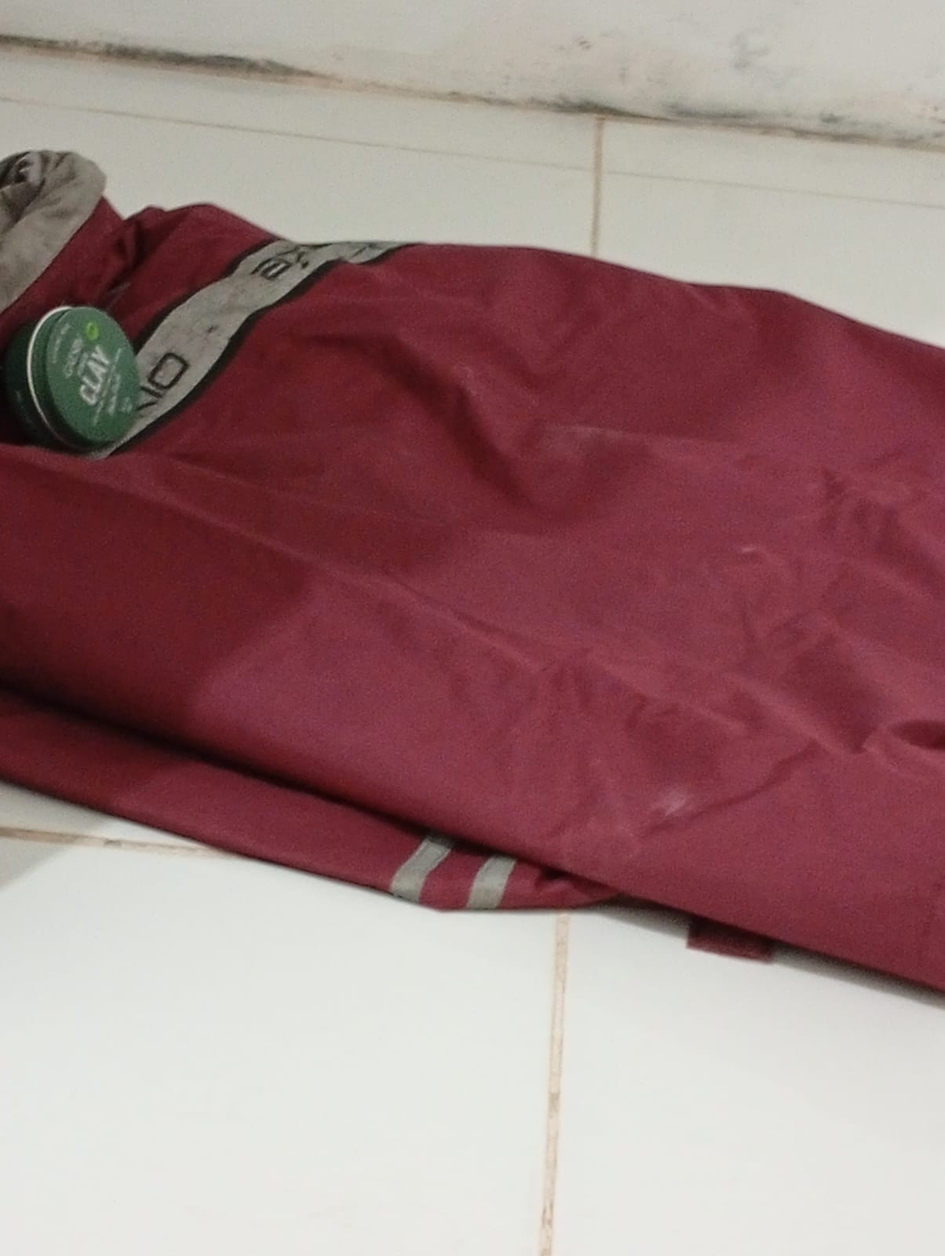Minyak_Rambut: (5, 286, 173, 476)
